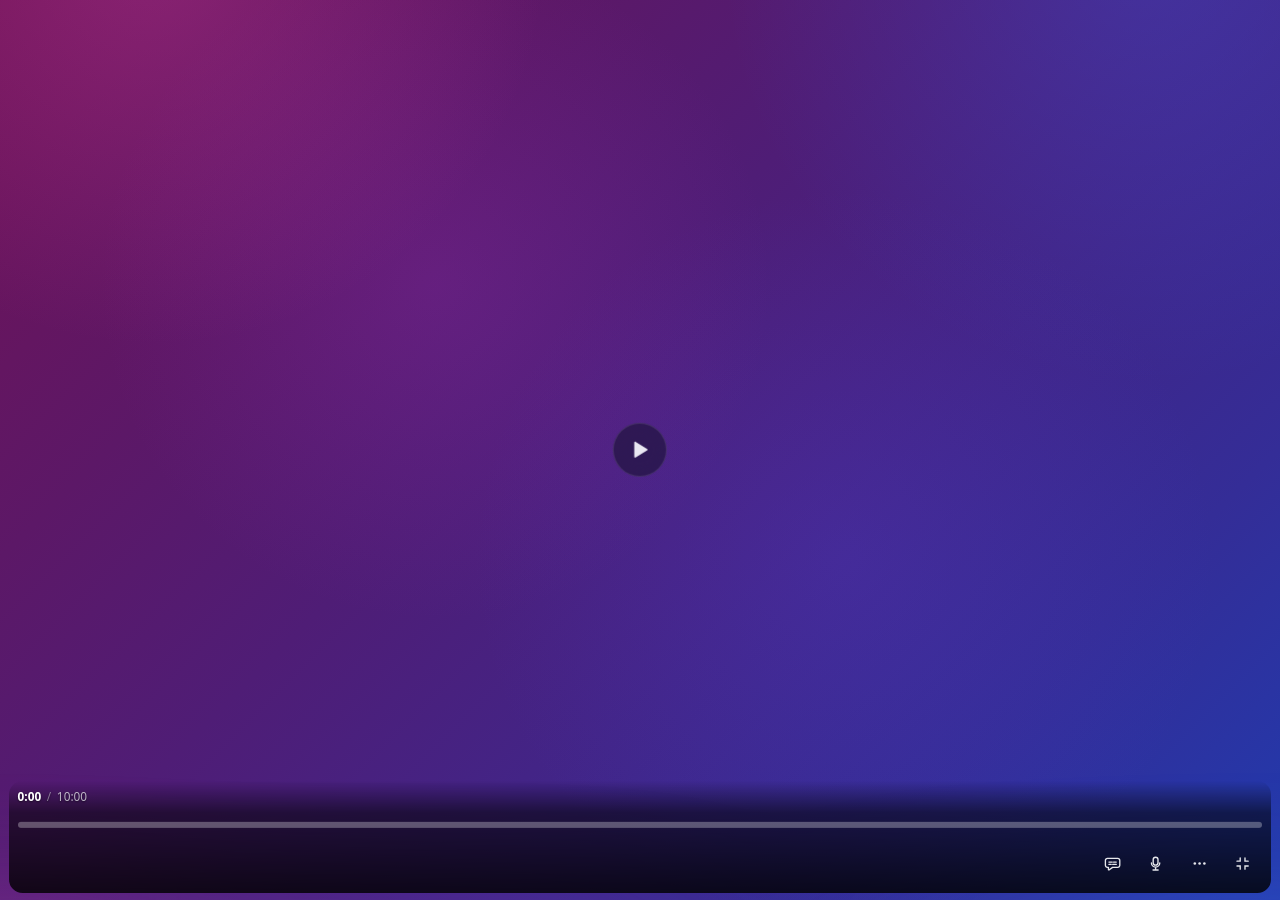
it: ElvernPlayerOverlay controls visibility › cinema state changes close More menu
Click the button named "More options": (1199, 864) [1179,844,1219,884]
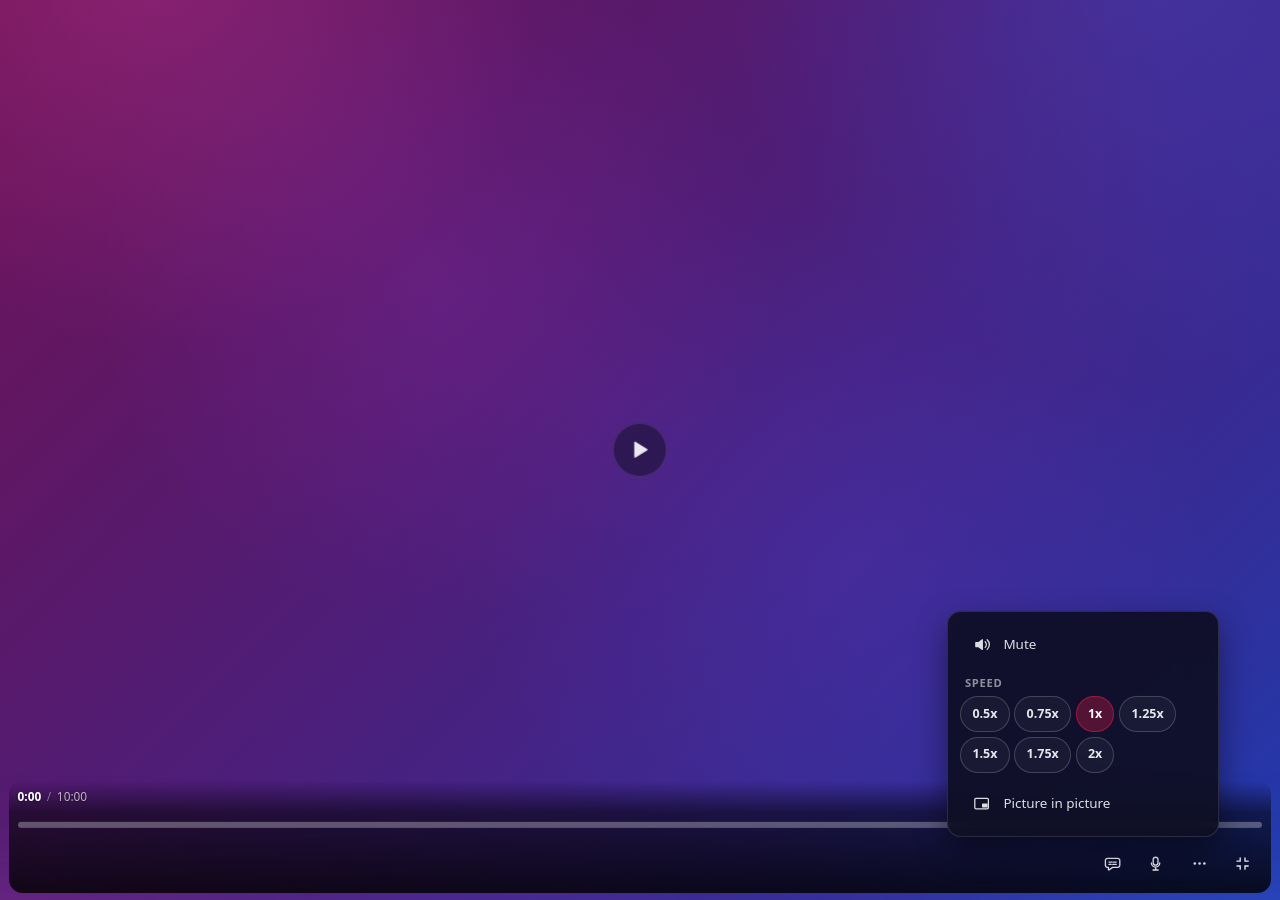
Result: the menu is shown at [947,611,1219,837]
